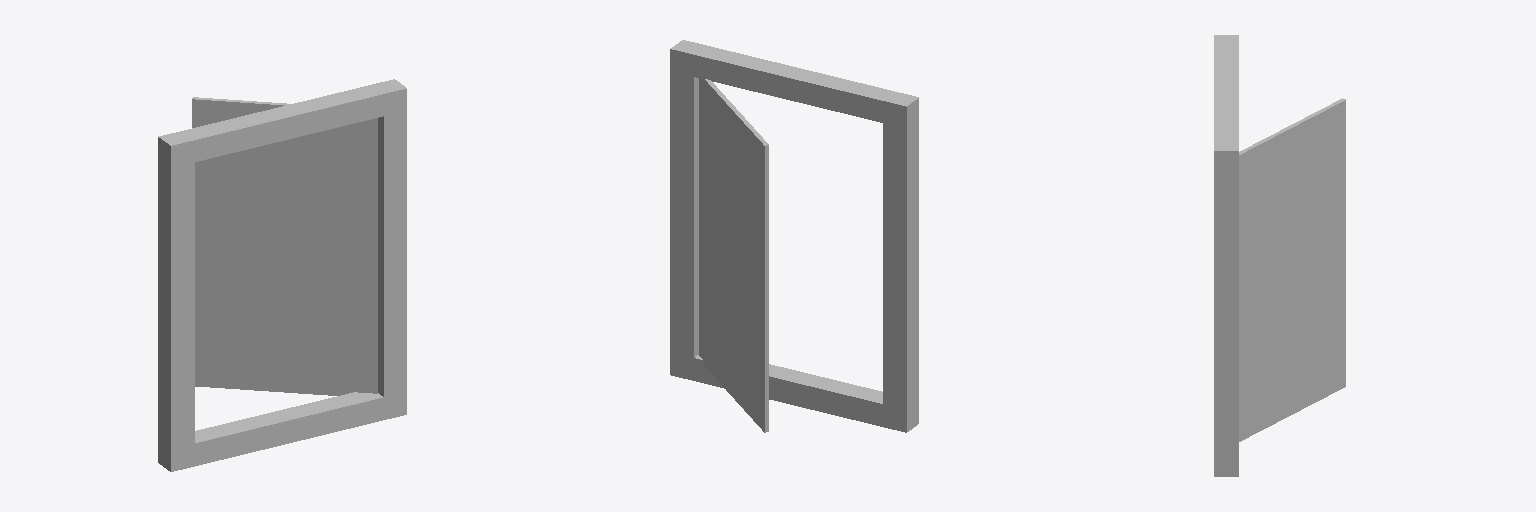
Rendered from door.obj.
3 renders of one model, left to right at view 1: azimuth 30°, elevation 25°; view 2: azimuth 150°, elevation 25°; view 3: azimuth 270°, elevation 25°, orthographic.
Bounding box in the file's own units: 10.75 × 14.17 × 5.23.